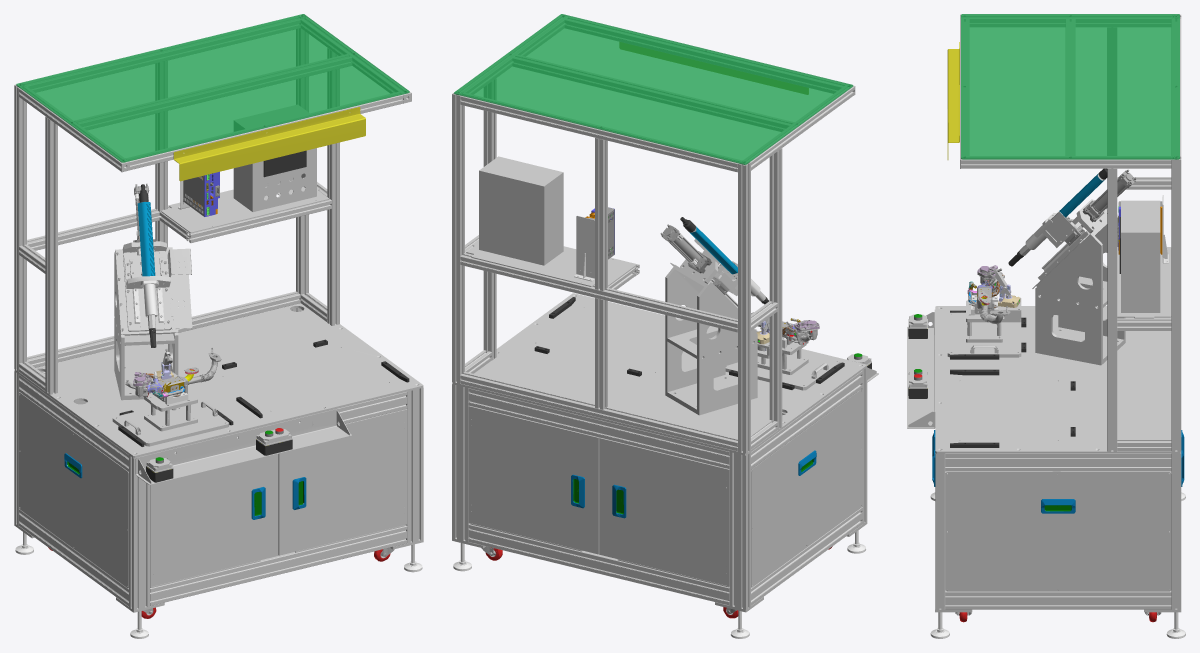
File: station-02.glb
3 renders of one model, left to right at view 1: azimuth 30°, elevation 25°; view 2: azimuth 150°, elevation 25°; view 3: azimuth 270°, elevation 25°, orthographic. The views are drawn at different scales.
Parts seen in each view (by area): view 1: part_000, part_005, part_004, part_006, part_007, part_002, part_003, part_032, part_026; view 2: part_000, part_005, part_007, part_004, part_003, part_002, part_006, part_030; view 3: part_000, part_005, part_006, part_002, part_007, part_004, part_003, part_030, part_032.
Part boxes in pixels (box(x1,y1,x2,y2)): part_000: box(14, 14, 423, 612); part_005: box(16, 14, 409, 162); part_004: box(173, 107, 365, 181); part_006: box(118, 150, 409, 482); part_007: box(15, 181, 422, 638); part_002: box(48, 201, 394, 618); part_003: box(64, 453, 306, 519); part_032: box(137, 202, 155, 276); part_026: box(183, 175, 219, 216); part_000: box(452, 14, 878, 612); part_005: box(454, 14, 853, 164); part_007: box(453, 215, 865, 638); part_004: box(619, 42, 808, 94); part_003: box(571, 450, 816, 518); part_002: box(481, 227, 832, 618); part_006: box(534, 217, 871, 389); part_030: box(660, 224, 706, 269); part_000: box(907, 14, 1181, 612); part_005: box(961, 14, 1179, 159); part_006: box(908, 168, 1120, 447); part_002: box(914, 173, 1161, 622); part_007: box(930, 195, 1185, 638); part_004: box(947, 42, 959, 159); part_003: box(932, 430, 1184, 513); part_030: box(1087, 169, 1136, 217); part_032: box(1059, 173, 1104, 217).
Bounding box in the file's own units: 1.42 × 2.15 × 1.13.
